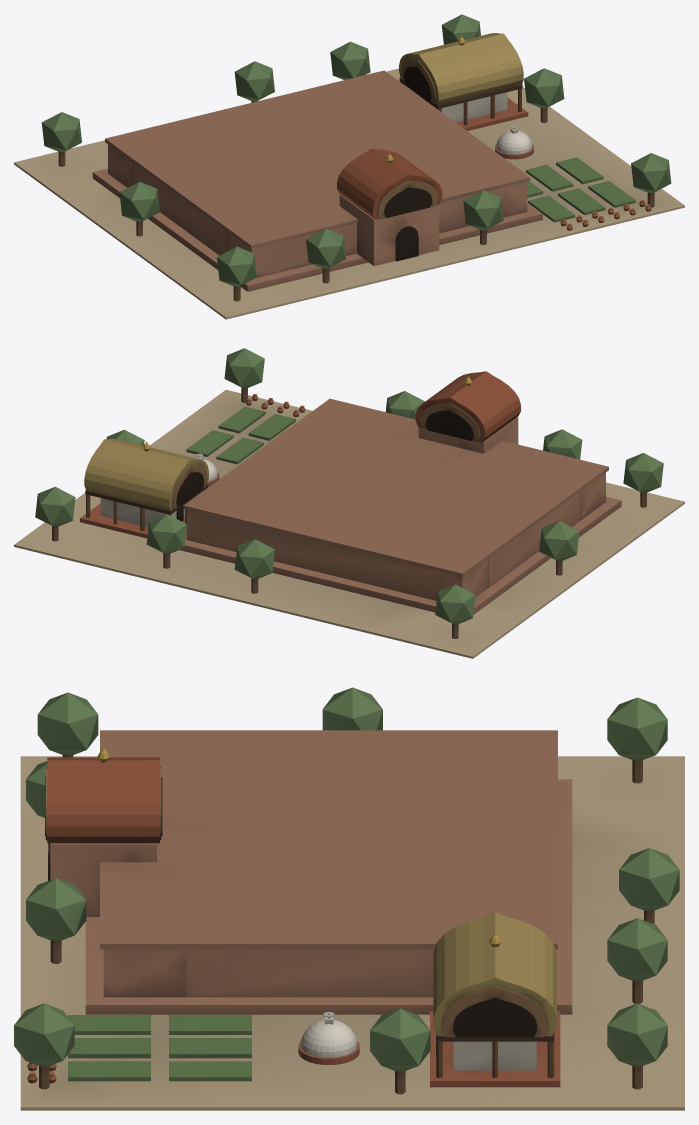
The model's file is arogya-vihara.glb.
The picture shows the model from 3 angles, top to bottom: view 1: azimuth 30°, elevation 25°; view 2: azimuth 150°, elevation 25°; view 3: azimuth 270°, elevation 25°; orthographic projection. The views are drawn at different scales.
Visible parts, largest first — view 1: p1_hospital, p0_hospital, p3_trees, p2_court and garden; view 2: p1_hospital, p0_hospital, p2_court and garden, p3_trees; view 3: p1_hospital, p0_hospital, p2_court and garden, p3_trees.
Boxes of the visible parts, x1=… form: p1_hospital: x1=92, y1=70, x2=542, y2=291; p0_hospital: x1=14, y1=68, x2=684, y2=319; p3_trees: x1=41, y1=14, x2=671, y2=301; p2_court and garden: x1=399, y1=33, x2=635, y2=222; p1_hospital: x1=180, y1=371, x2=621, y2=614; p0_hospital: x1=14, y1=389, x2=684, y2=658; p2_court and garden: x1=80, y1=406, x2=295, y2=538; p3_trees: x1=35, y1=348, x2=663, y2=638; p1_hospital: x1=45, y1=730, x2=572, y2=1014; p0_hospital: x1=20, y1=756, x2=684, y2=1110; p2_court and garden: x1=68, y1=912, x2=560, y2=1087; p3_trees: x1=14, y1=687, x2=679, y2=1094.
Size of the model in its own units: 70 by 14.73 by 56.55.
